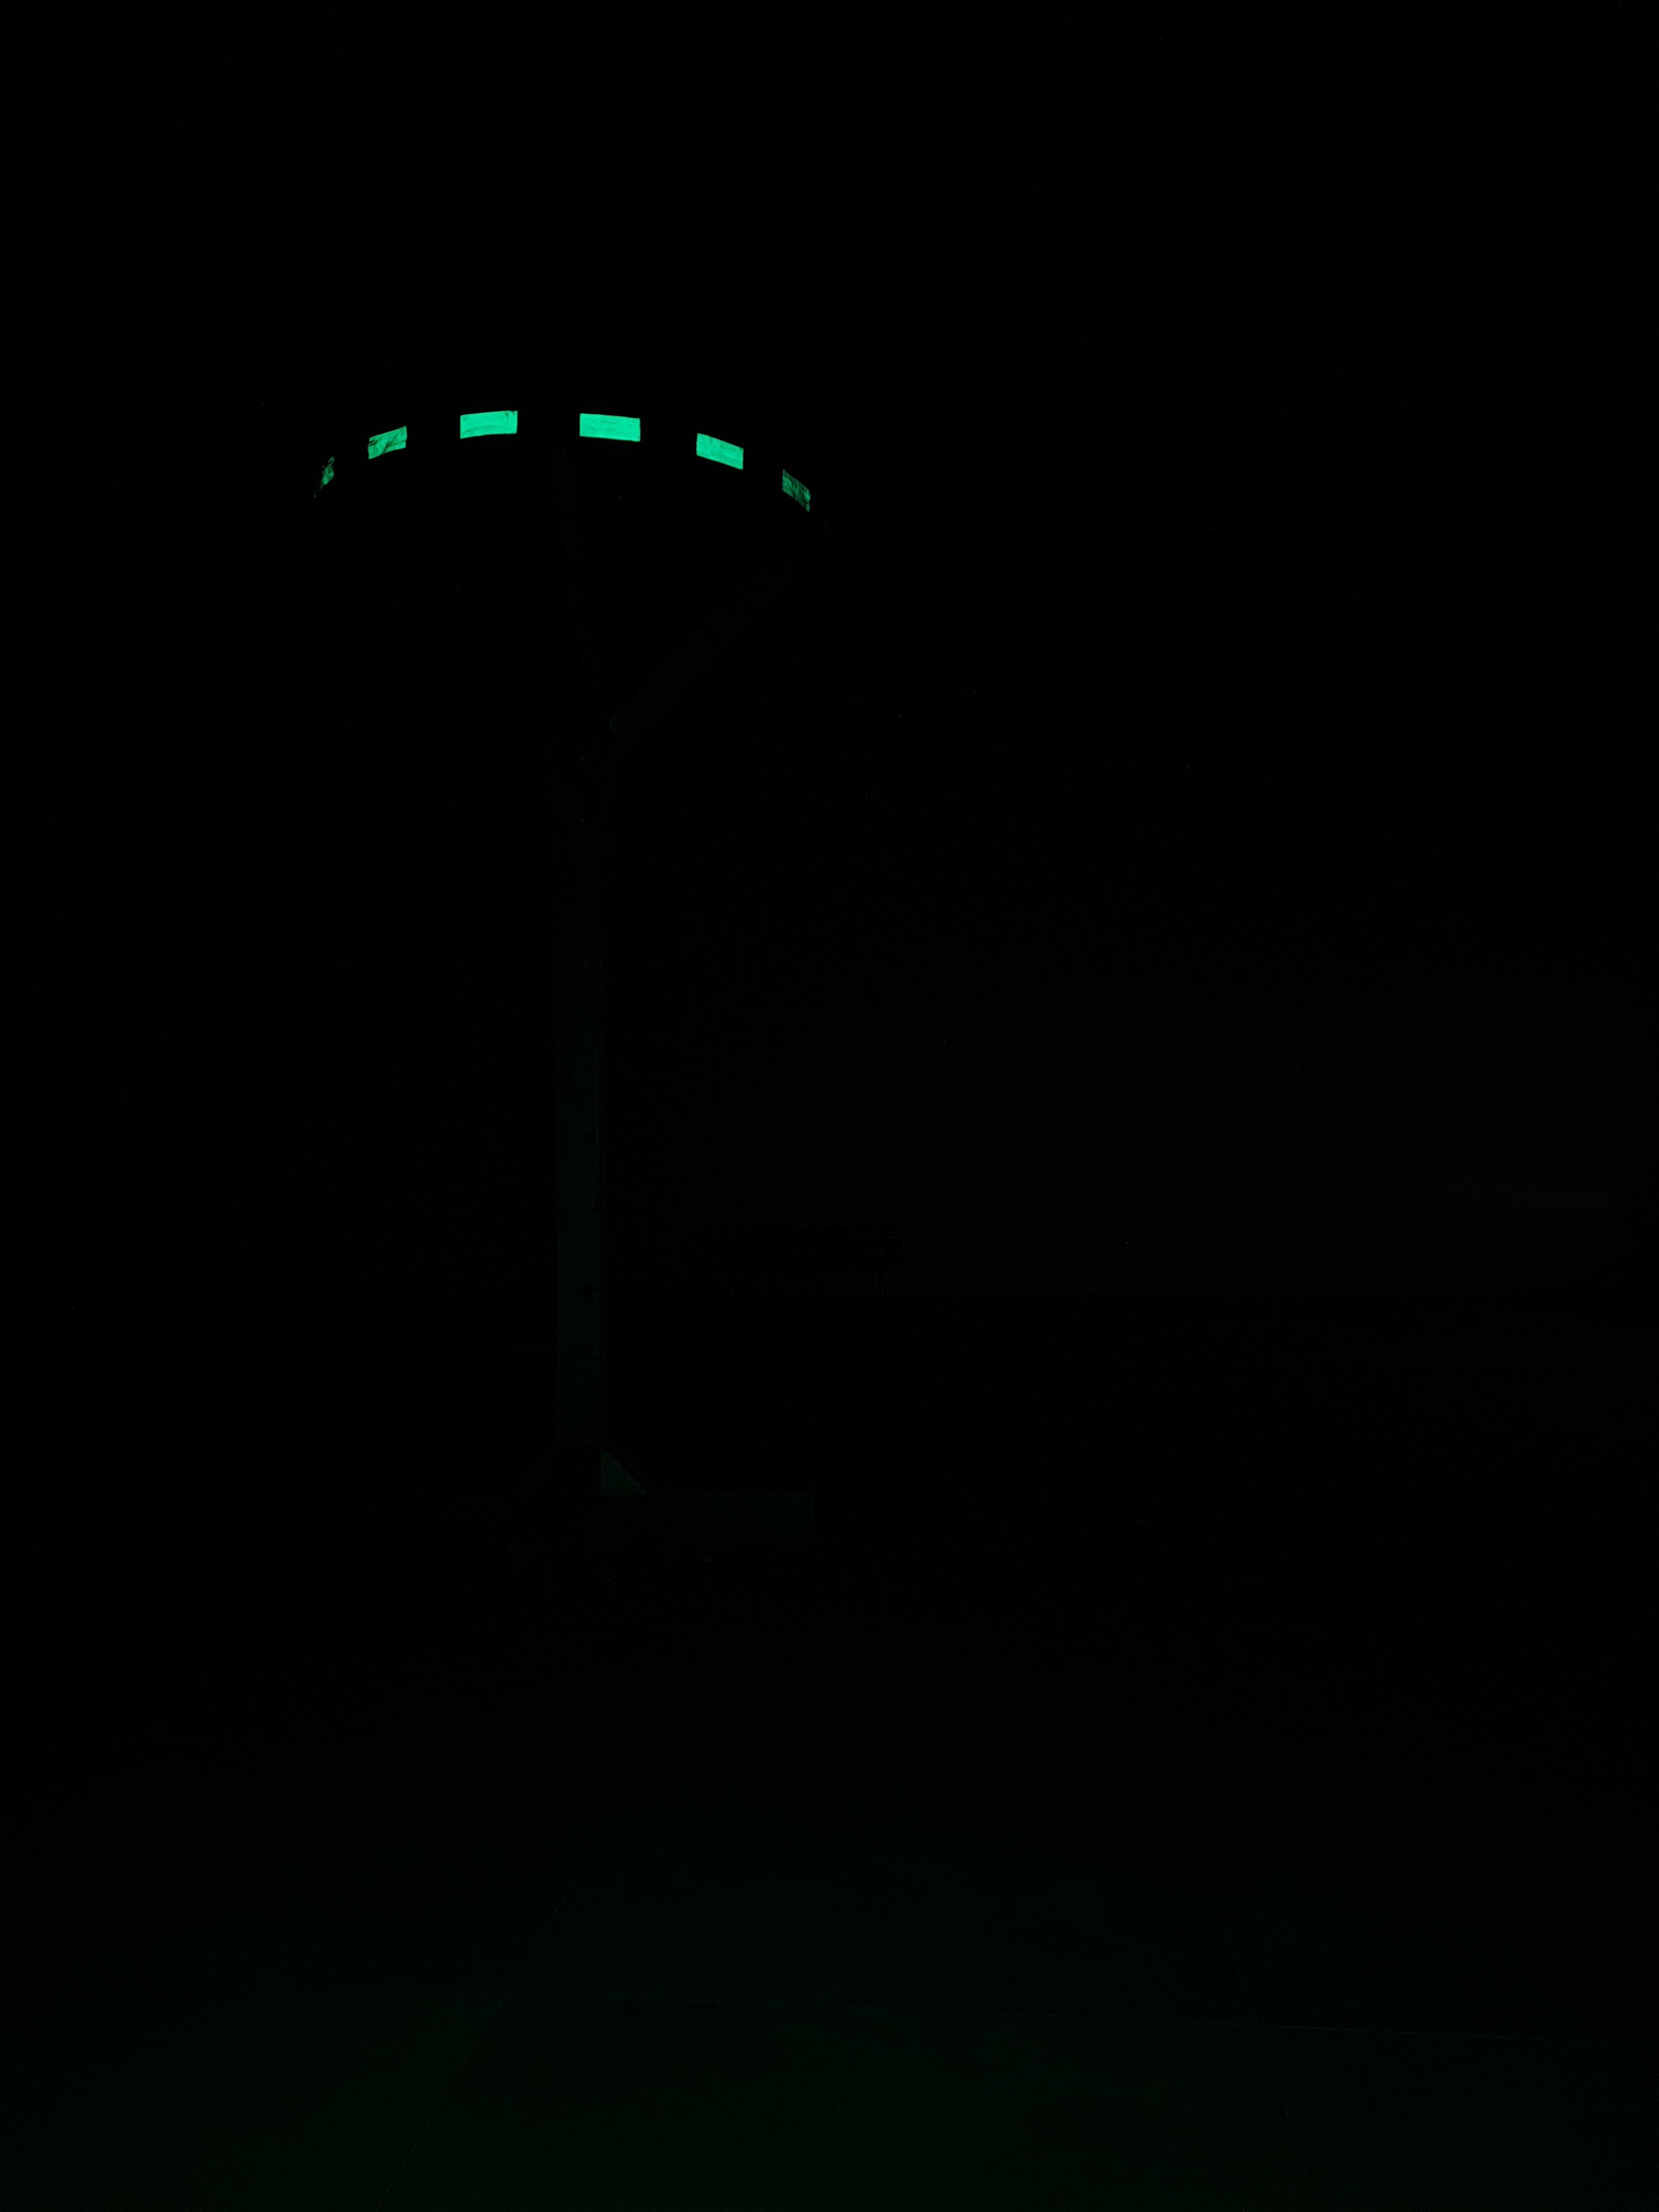hoop: (307, 401, 817, 521)
